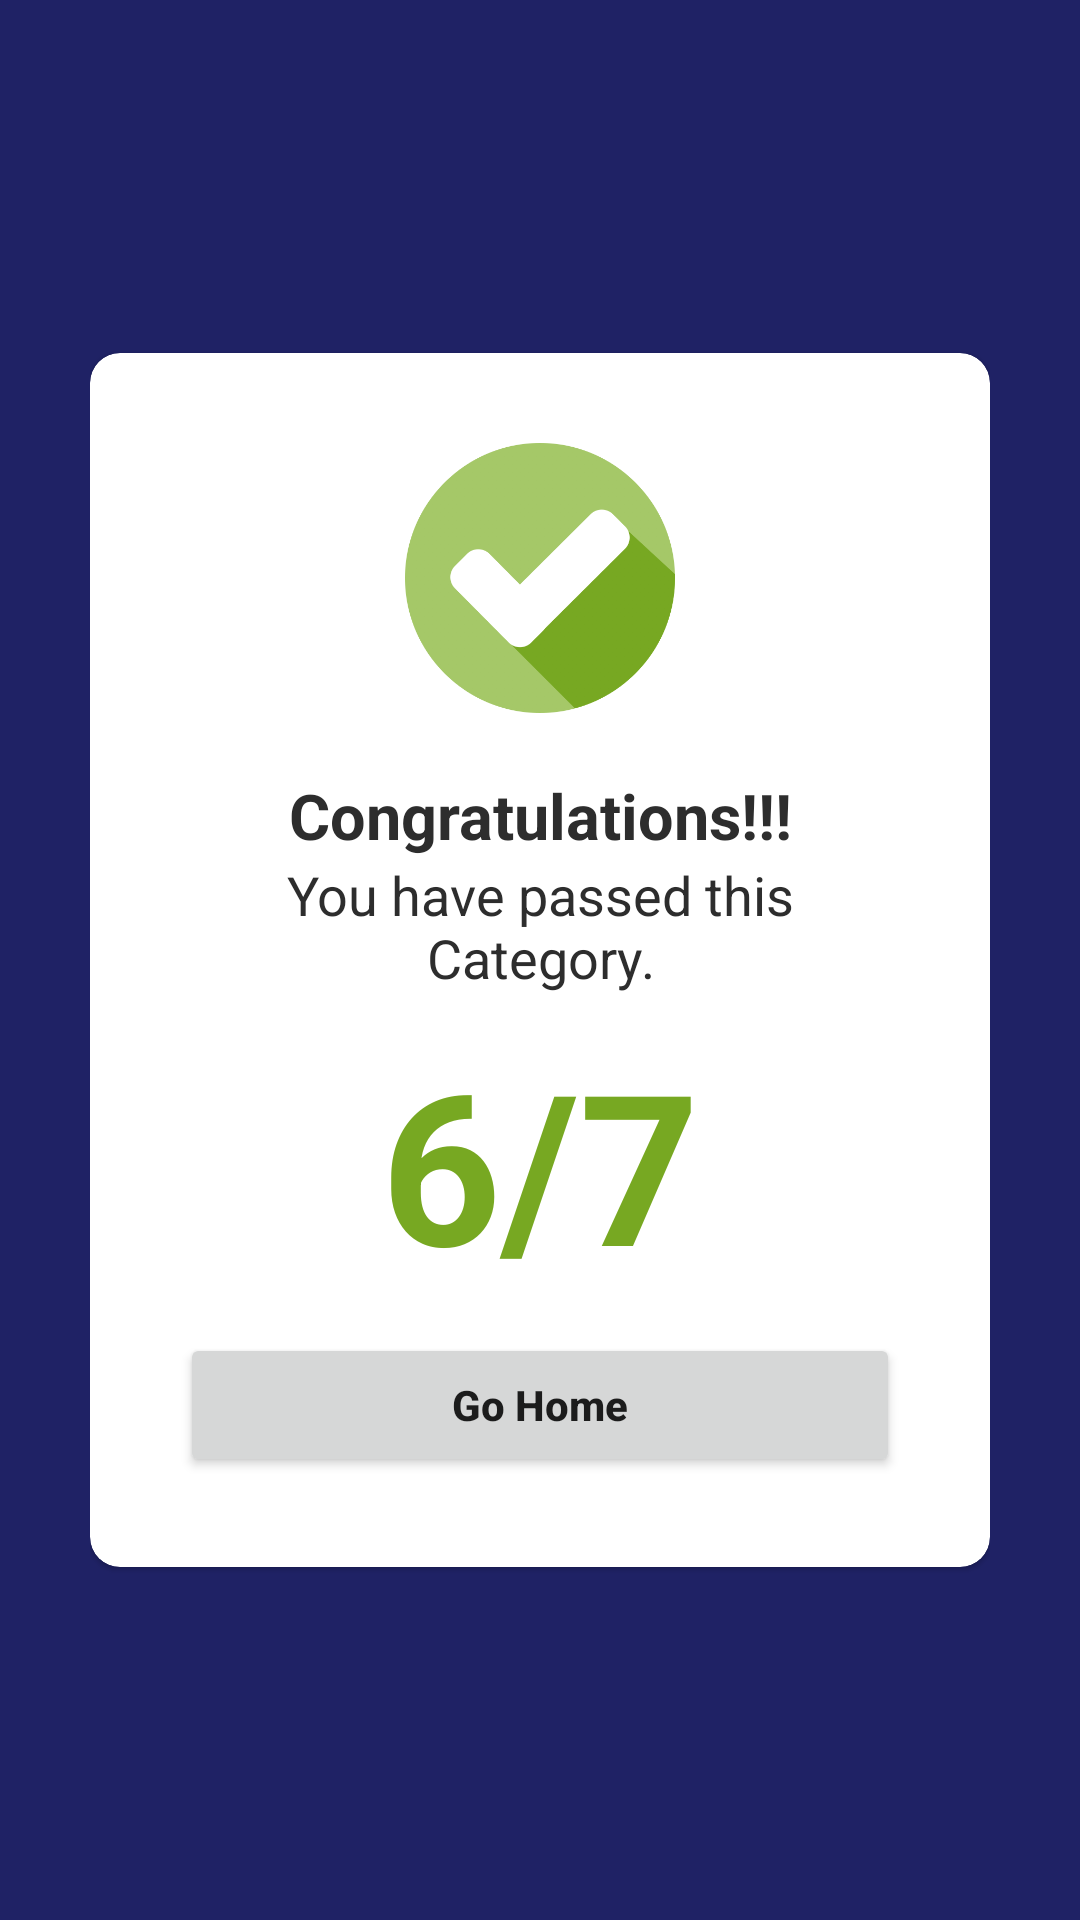

Point at icon controls on the screen. Image size 1080px x 1920px, points as (x=x, y=y).
success: (x=540, y=578)
